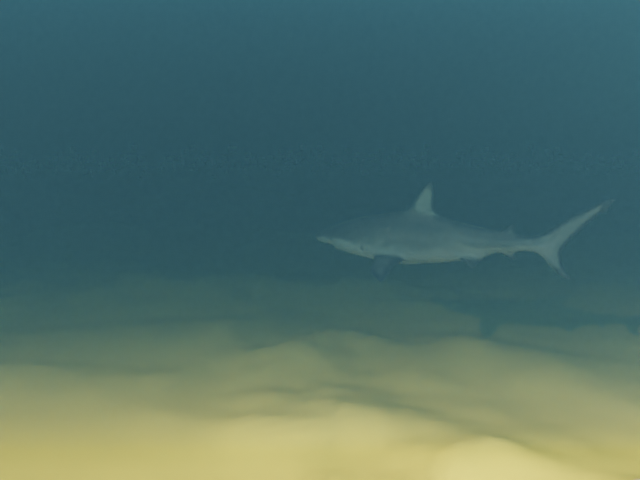Carribean Shark.001: (315, 181, 615, 281)
